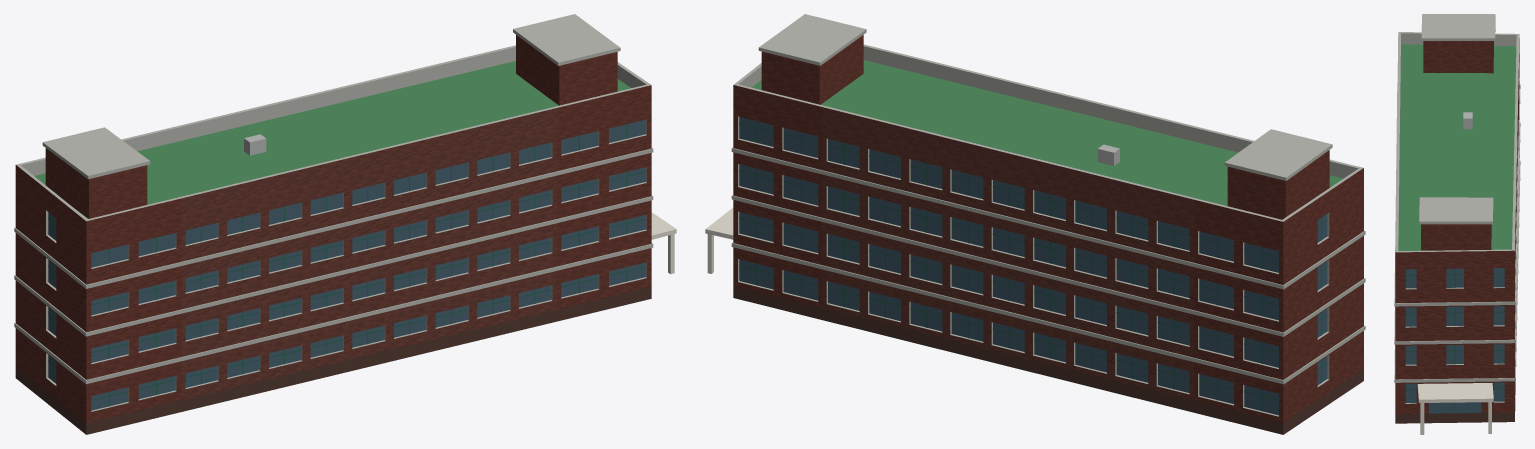
3 views of the same model, side by side, from view 1: azimuth 30°, elevation 25°; view 2: azimuth 150°, elevation 25°; view 3: azimuth 270°, elevation 25° (orthographic). The views are drawn at different scales.
Visible parts, largest first — view 1: south__wall-plaster, south__brick, south__trim-concrete, south__glass, south__roof, south__base-stone, south__frame, south__canopy-concrete; view 2: south__wall-plaster, south__brick, south__glass, south__trim-concrete, south__roof, south__base-stone, south__frame, south__canopy-concrete; view 3: south__brick, south__roof, south__trim-concrete, south__glass, south__canopy-concrete, south__base-stone, south__frame, south__wall-plaster, south__equipment.
Part boxes in pixels (bbox=[...]): south__wall-plaster: bbox=[181, 108, 556, 399]; south__brick: bbox=[15, 35, 651, 422]; south__trim-concrete: bbox=[14, 14, 653, 411]; south__glass: bbox=[48, 119, 645, 410]; south__roof: bbox=[34, 61, 631, 218]; south__base-stone: bbox=[15, 287, 651, 434]; south__frame: bbox=[48, 124, 645, 406]; south__canopy-concrete: bbox=[651, 212, 676, 274]; south__wall-plaster: bbox=[822, 107, 1193, 400]; south__brick: bbox=[733, 35, 1363, 422]; south__glass: bbox=[739, 117, 1327, 415]; south__trim-concrete: bbox=[731, 14, 1365, 416]; south__roof: bbox=[752, 60, 1343, 205]; south__base-stone: bbox=[733, 286, 1363, 434]; south__frame: bbox=[739, 121, 1327, 411]; south__canopy-concrete: bbox=[705, 207, 733, 273]; south__brick: bbox=[1395, 38, 1519, 413]; south__roof: bbox=[1398, 44, 1516, 250]; south__trim-concrete: bbox=[1394, 14, 1520, 403]; south__glass: bbox=[1405, 268, 1504, 413]; south__canopy-concrete: bbox=[1417, 383, 1493, 434]; south__base-stone: bbox=[1395, 386, 1515, 423]; south__frame: bbox=[1405, 268, 1504, 412]; south__wall-plaster: bbox=[1515, 85, 1518, 259]; south__equipment: bbox=[1463, 112, 1472, 129].
Size of the model in its own units: 47.8 by 18.45 by 10.78.
9 materials, 2 textured.
